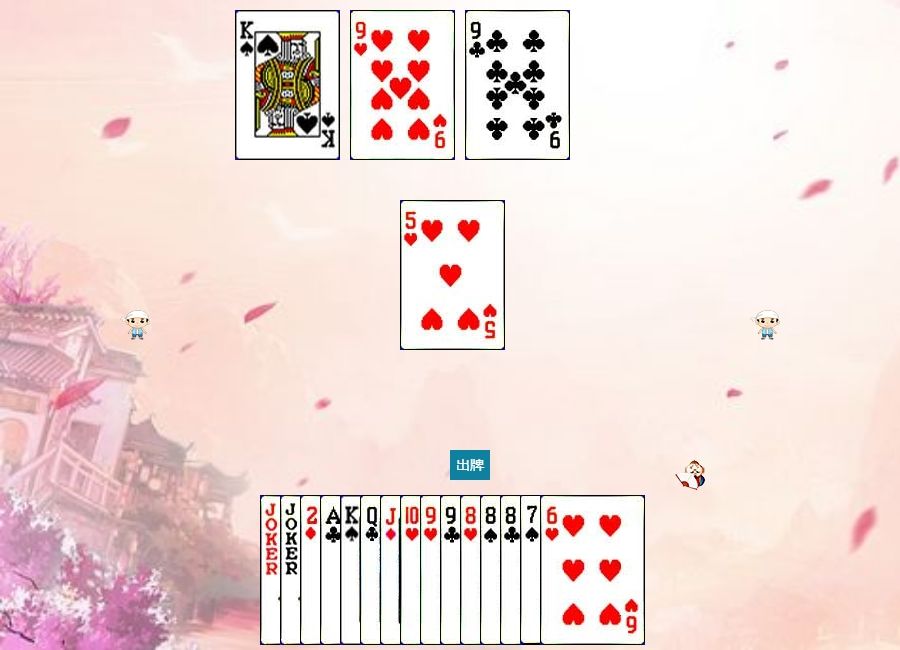10~3: (400, 495, 505, 645)
11~1: (380, 495, 485, 645)
12~2: (360, 495, 465, 645)
13~4: (235, 10, 340, 160), (340, 495, 445, 645)
14~2: (320, 495, 425, 645)
15~1: (300, 495, 405, 645)
17~3: (280, 495, 385, 645)
18~4: (260, 495, 365, 645)
5~3: (400, 200, 505, 350)
6~3: (540, 495, 645, 645)
7~4: (520, 495, 625, 645)
8~2: (500, 495, 605, 645)
8~3: (460, 495, 565, 645)
8~4: (480, 495, 585, 645)
9~2: (465, 10, 570, 160), (440, 495, 545, 645)
9~3: (350, 10, 455, 160), (420, 495, 525, 645)
